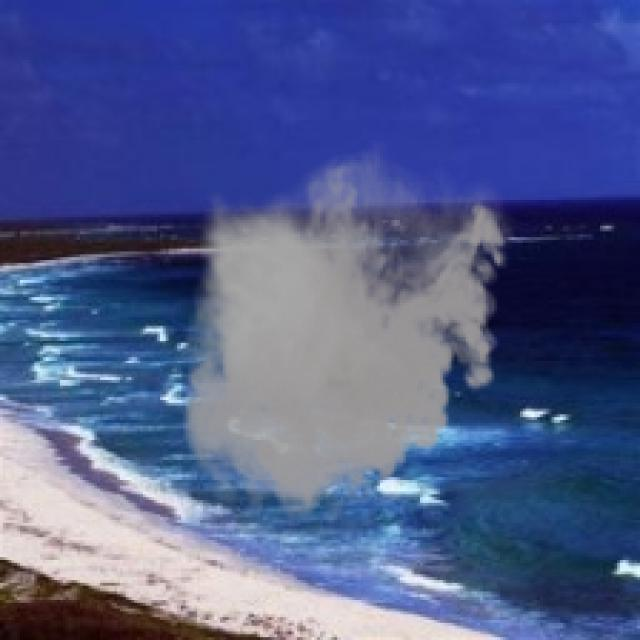smoke: (172, 140, 517, 531)
